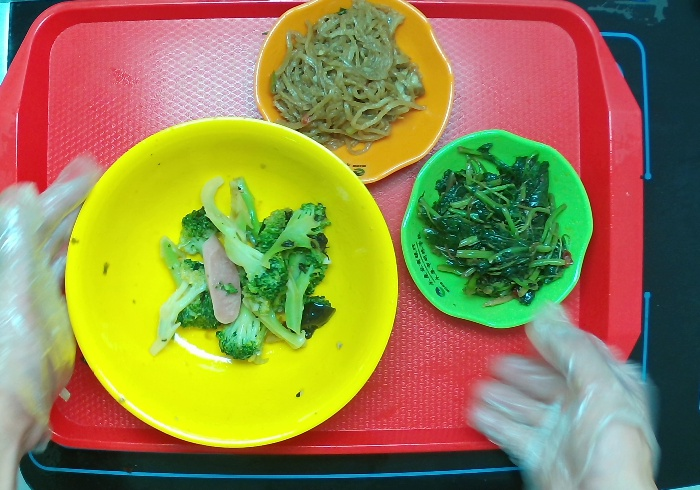YKMZ-Huang_Se_Tang_Wan: (59, 113, 402, 454)
YKMZ-Ju_Se_Ao_Bian_Wan: (248, 1, 457, 187)
YKMZ-Lv_Se_Ao_Bian_Wan: (393, 121, 599, 333)
